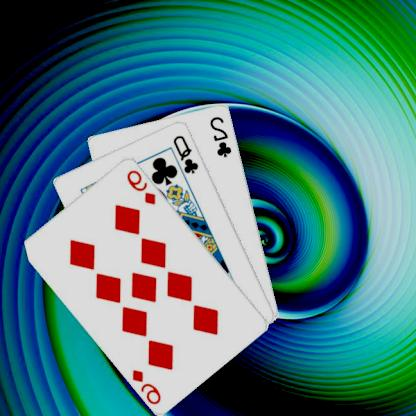2C: (209, 113, 235, 159)
9D: (126, 166, 159, 206), (131, 366, 164, 406)
QC: (172, 132, 202, 175)
